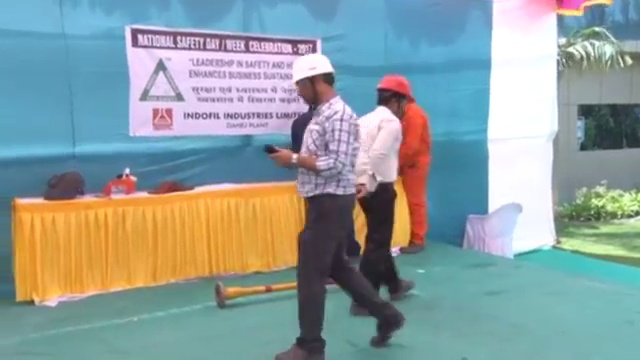helmet: (288, 54, 337, 85), (375, 73, 418, 104)
helmet_on: (287, 54, 337, 107), (375, 73, 419, 122)
person: (262, 53, 405, 360), (355, 71, 415, 315), (399, 93, 435, 256)
